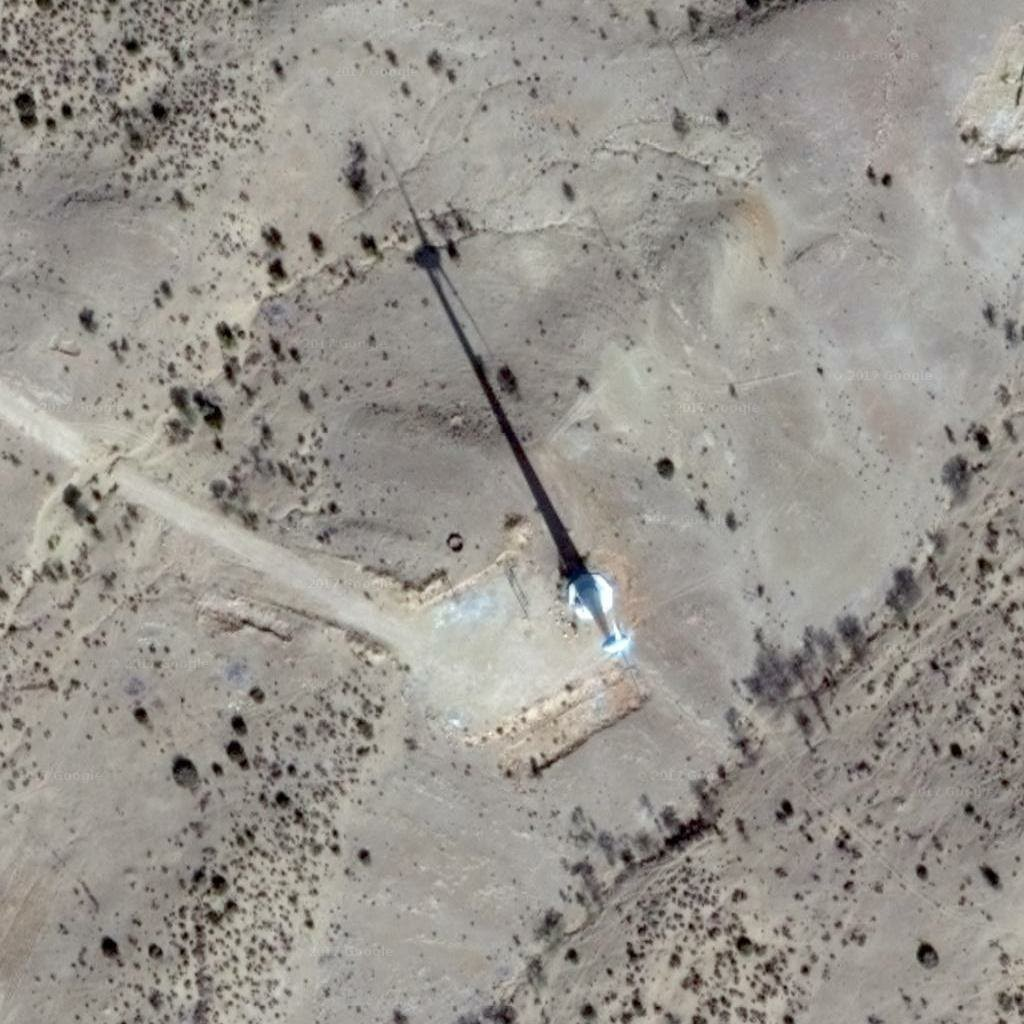Windmill: (373, 160, 587, 571)
